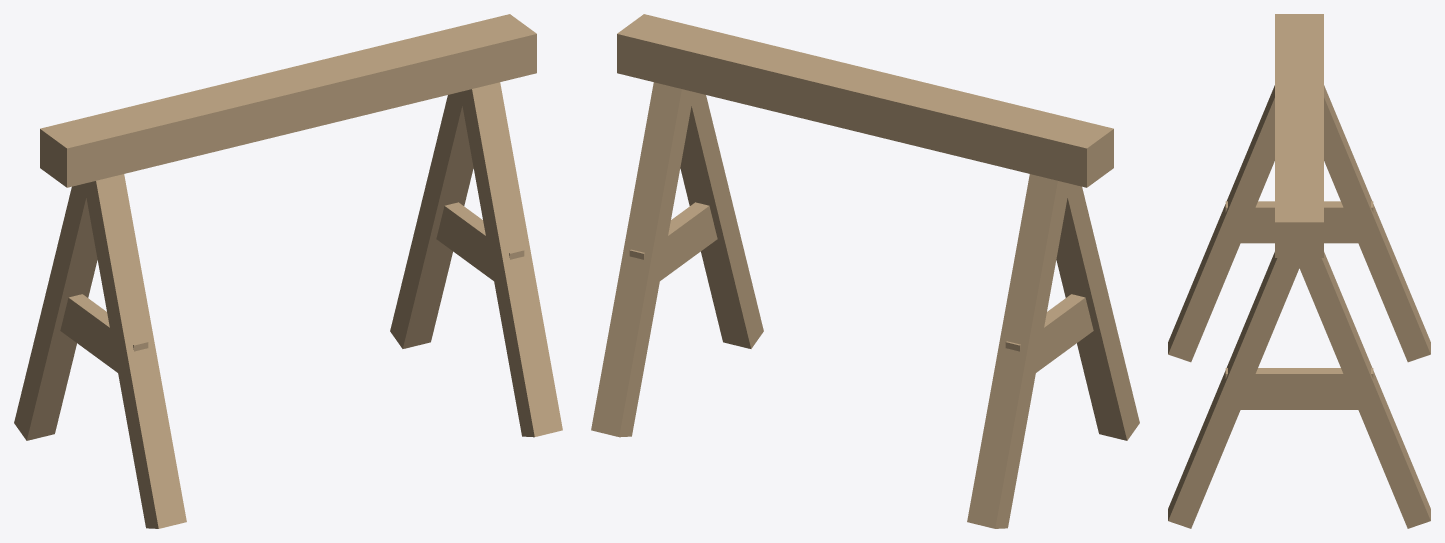
The model's file is prop-sawhorse.fbx.
3 views of the same model, side by side, from view 1: azimuth 30°, elevation 25°; view 2: azimuth 150°, elevation 25°; view 3: azimuth 270°, elevation 25° (orthographic). The views are drawn at different scales.
Parts seen in each view (by area): view 1: prop-sawhorse; view 2: prop-sawhorse; view 3: prop-sawhorse.
Part boxes in pixels (x1=…): prop-sawhorse: x1=14, y1=14, x2=562, y2=528; prop-sawhorse: x1=591, y1=14, x2=1139, y2=528; prop-sawhorse: x1=1168, y1=14, x2=1430, y2=528.
Bounding box in the file's own units: 100 × 71.99 × 53.34.
